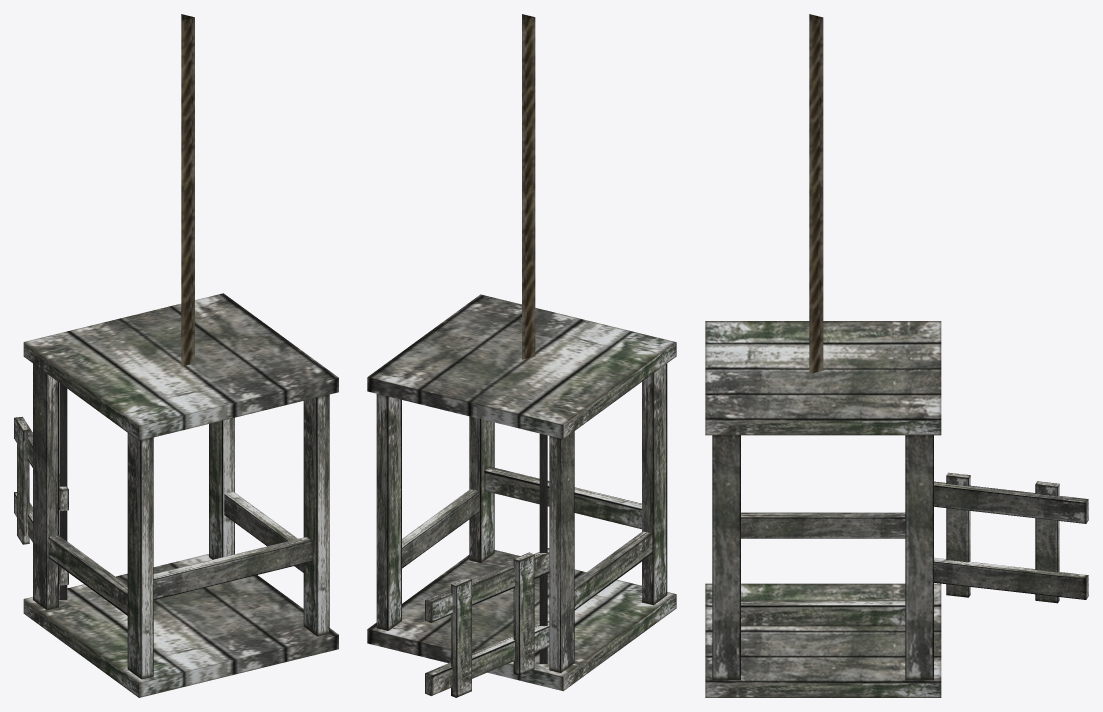
File: pir_m_prp_mng_elevator_basket.fbx
The picture shows the model from 3 angles, left to right: view 1: azimuth 30°, elevation 25°; view 2: azimuth 150°, elevation 25°; view 3: azimuth 270°, elevation 25°; orthographic projection. The views are drawn at different scales.
Parts seen in each view (by area): view 1: floor1, floor, support_4, support_1, support_2, rope_0, support_10, support_3, support_8, door, support_5, axle_3; view 2: floor1, floor, door, support_2, support_3, support_4, rope_0, support_10, support_1, support_8, support_5, axle_3; view 3: floor1, floor, door, support_3, support_1, rope_0, support_8, support_5.
Part boxes in pixels (x1=…): floor1: x1=23, y1=293, x2=338, y2=440; floor: x1=23, y1=554, x2=338, y2=697; support_4: x1=127, y1=433, x2=153, y2=679; support_1: x1=303, y1=394, x2=329, y2=636; support_2: x1=33, y1=363, x2=58, y2=610; rope_0: x1=181, y1=14, x2=194, y2=366; support_10: x1=153, y1=537, x2=312, y2=599; support_3: x1=209, y1=417, x2=234, y2=559; support_8: x1=48, y1=535, x2=127, y2=615; door: x1=14, y1=416, x2=68, y2=585; support_5: x1=224, y1=492, x2=303, y2=572; axle_3: x1=59, y1=383, x2=67, y2=599; floor1: x1=367, y1=294, x2=676, y2=439; floor: x1=367, y1=550, x2=676, y2=691; door: x1=425, y1=548, x2=549, y2=697; support_2: x1=549, y1=431, x2=574, y2=672; support_3: x1=376, y1=394, x2=401, y2=630; support_4: x1=642, y1=363, x2=667, y2=605; rope_0: x1=522, y1=14, x2=535, y2=359; support_10: x1=484, y1=466, x2=641, y2=529; support_1: x1=469, y1=416, x2=494, y2=562; support_8: x1=574, y1=531, x2=652, y2=610; support_5: x1=402, y1=489, x2=479, y2=568; axle_3: x1=539, y1=433, x2=547, y2=663; floor1: x1=705, y1=321, x2=941, y2=435; floor: x1=705, y1=583, x2=941, y2=697; door: x1=934, y1=472, x2=1088, y2=603; support_3: x1=905, y1=435, x2=933, y2=680; support_1: x1=712, y1=435, x2=740, y2=680; rope_0: x1=809, y1=14, x2=823, y2=373; support_8: x1=741, y1=512, x2=905, y2=538; support_5: x1=741, y1=600, x2=905, y2=626.
Size of the model in its own units: 652 by 1923 by 1059.
Materials: 1 (1 with a texture image).
